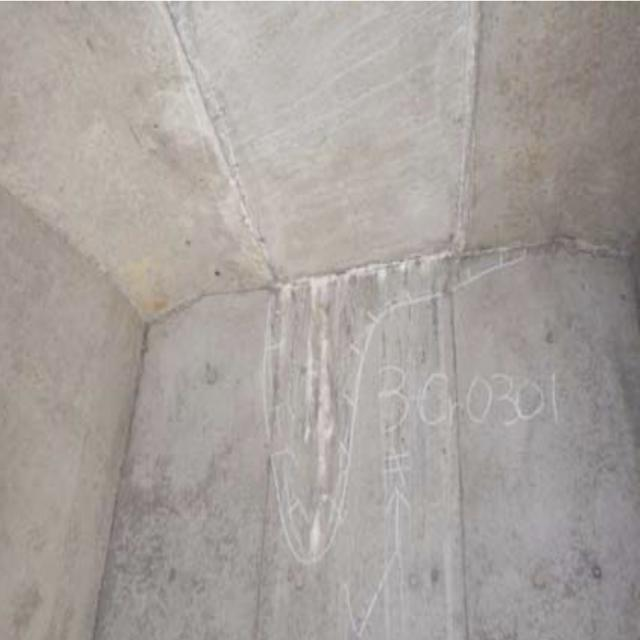crack: (259, 279, 357, 564)
